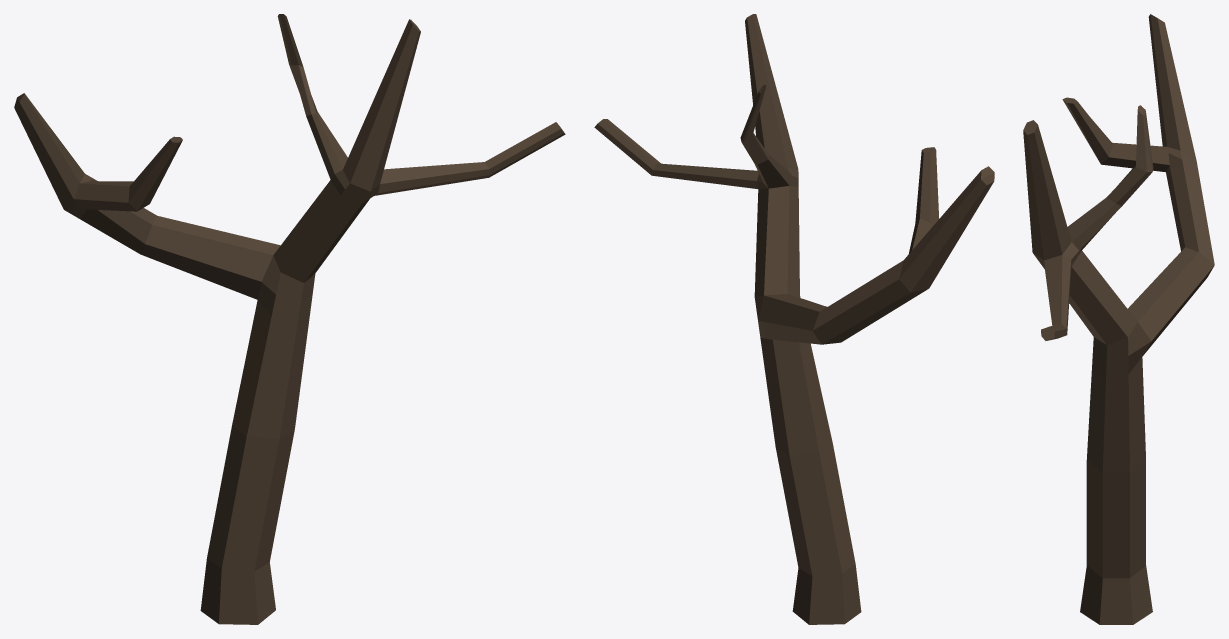
File: tree1.1.fbx
3 views of the same model, side by side, from view 1: azimuth 30°, elevation 25°; view 2: azimuth 150°, elevation 25°; view 3: azimuth 270°, elevation 25° (orthographic). The views are drawn at different scales.
Visible parts, largest first — view 1: tree1; view 2: tree1; view 3: tree1.
Part boxes in pixels (x1,y1,x2,y2): tree1: [14, 14, 565, 624]; tree1: [594, 14, 994, 624]; tree1: [1023, 14, 1214, 624].
Bounding box in the file's own units: 2040 × 2346 × 742.
